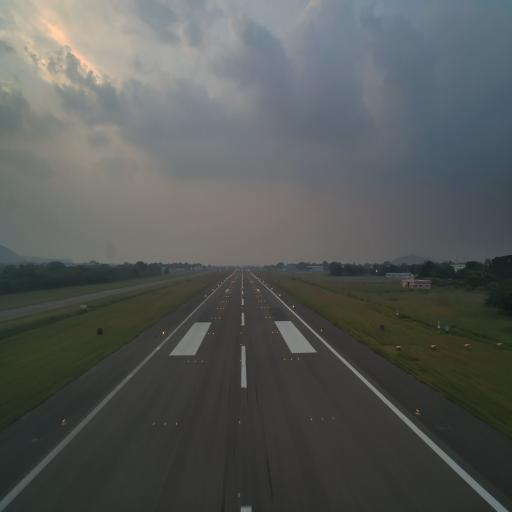off: (239, 381, 243, 387)
on: (236, 486, 242, 501), (415, 404, 421, 417), (60, 416, 67, 426), (308, 414, 313, 424), (174, 419, 180, 427), (151, 420, 156, 428), (237, 418, 242, 426), (320, 415, 325, 423), (330, 414, 335, 422), (162, 419, 166, 428), (283, 357, 287, 362), (201, 358, 204, 363), (194, 358, 196, 364), (187, 358, 189, 363), (291, 357, 293, 362), (240, 358, 242, 362), (297, 356, 299, 360)
